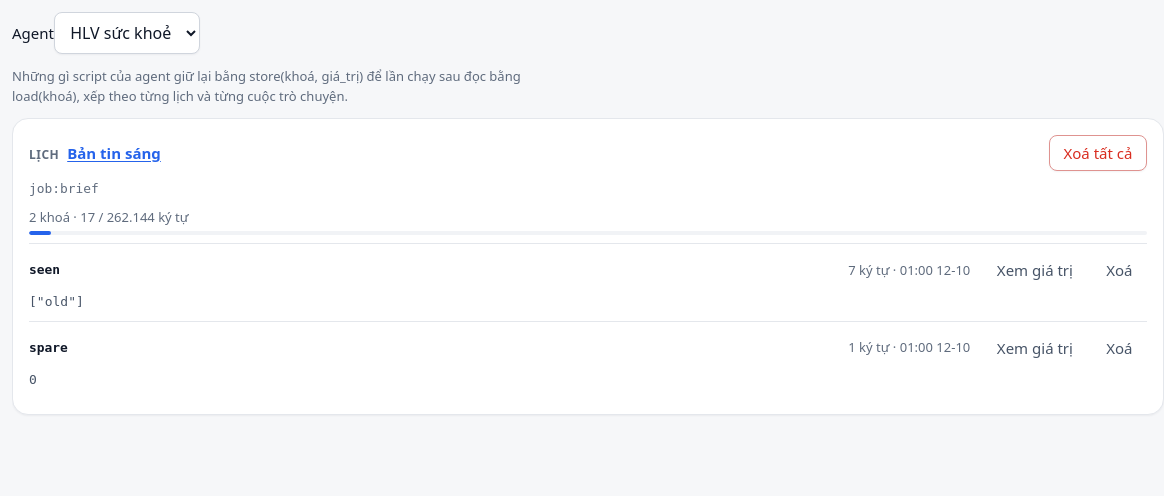
it: a key's whole value › is put away once the key was written again, so an old value is never read as the key's
Step 1. Click the button "Xem giá trị" in the row of "7 ký tự" → [1035, 270], box [982, 252, 1088, 288]
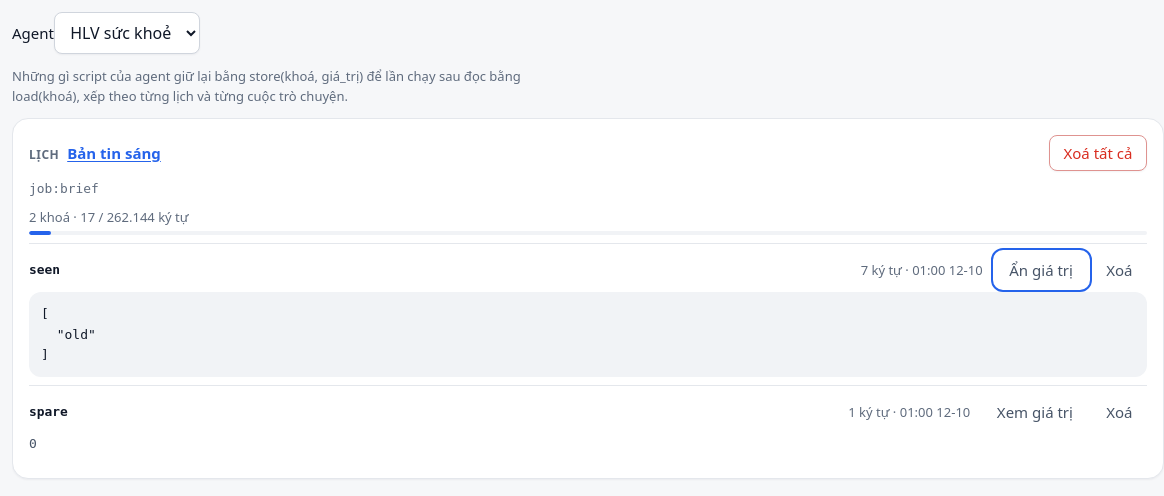
Step 2. Click the button "Xoá" in the row of "1 ký tự" → [1119, 412], box [1092, 394, 1147, 430]
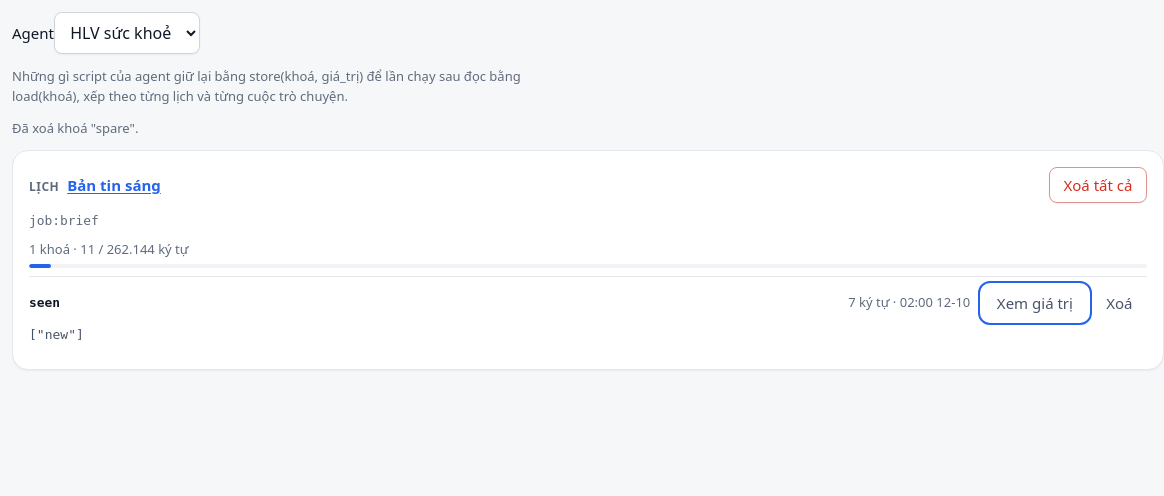
Expected: the text with test id "script-store-preview" reads "[\"new\"]", [29, 327, 84, 342]
Expected: the text with test id "script-store-value" is gone
